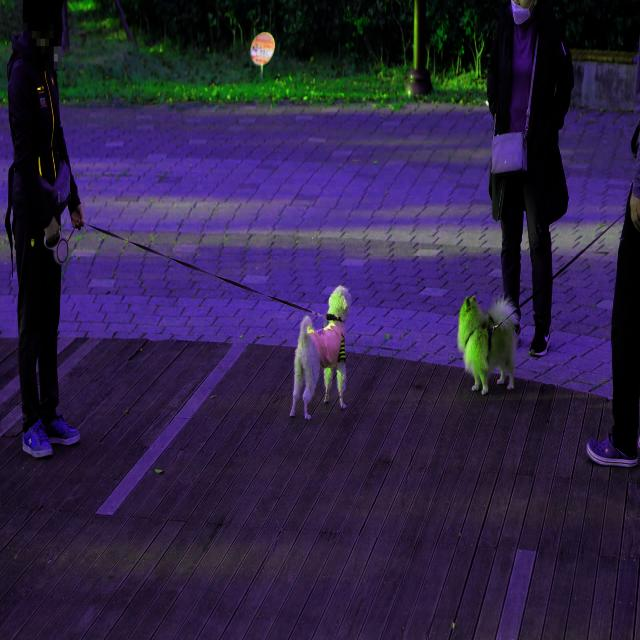Leashed_Dog: (46, 203, 353, 420), (456, 209, 640, 398)
